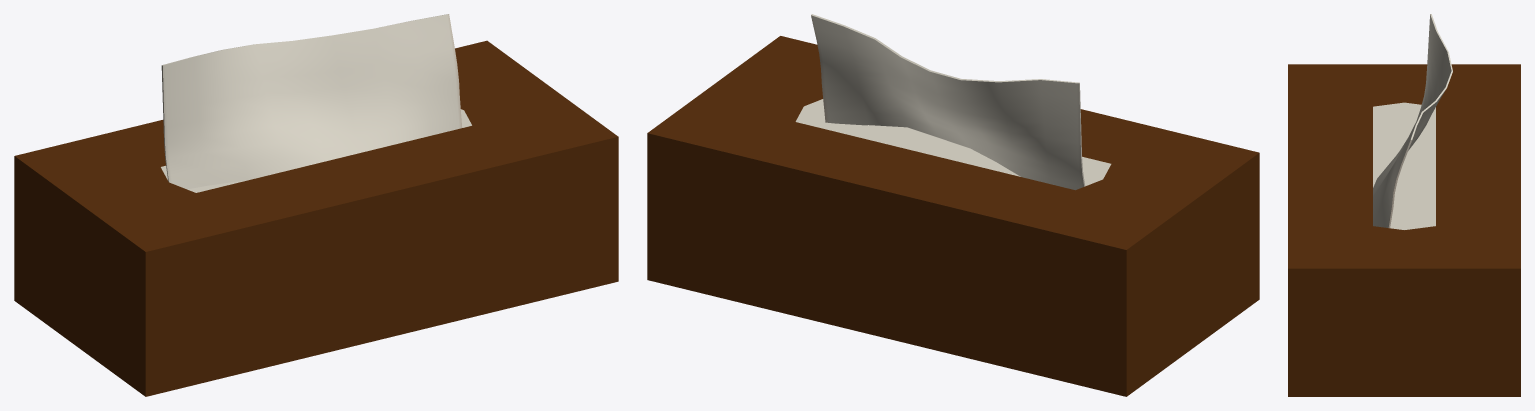
File: chusteczki.fbx
The picture shows the model from 3 angles, left to right: view 1: azimuth 30°, elevation 25°; view 2: azimuth 150°, elevation 25°; view 3: azimuth 270°, elevation 25°; orthographic projection. The views are drawn at different scales.
Visible parts, largest first — view 1: Cube.001; view 2: Cube.001; view 3: Cube.001.
Part boxes in pixels (x1,y1,x2,y2): Cube.001: [14, 14, 618, 396]; Cube.001: [647, 14, 1259, 396]; Cube.001: [1288, 14, 1520, 396].
Bounding box in the file's own units: 143 × 297 × 149.
